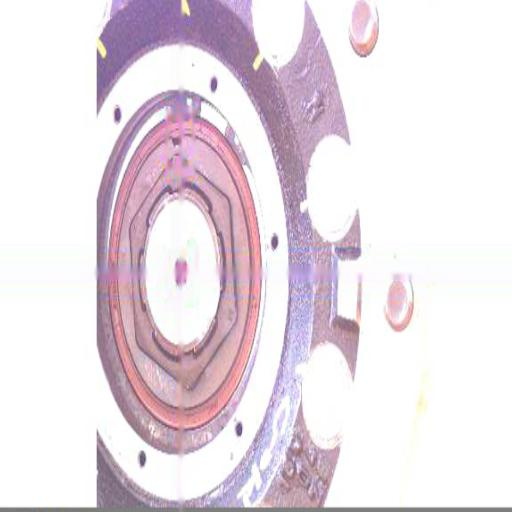center: (171, 260, 191, 290)
notch: (169, 129, 185, 157)
